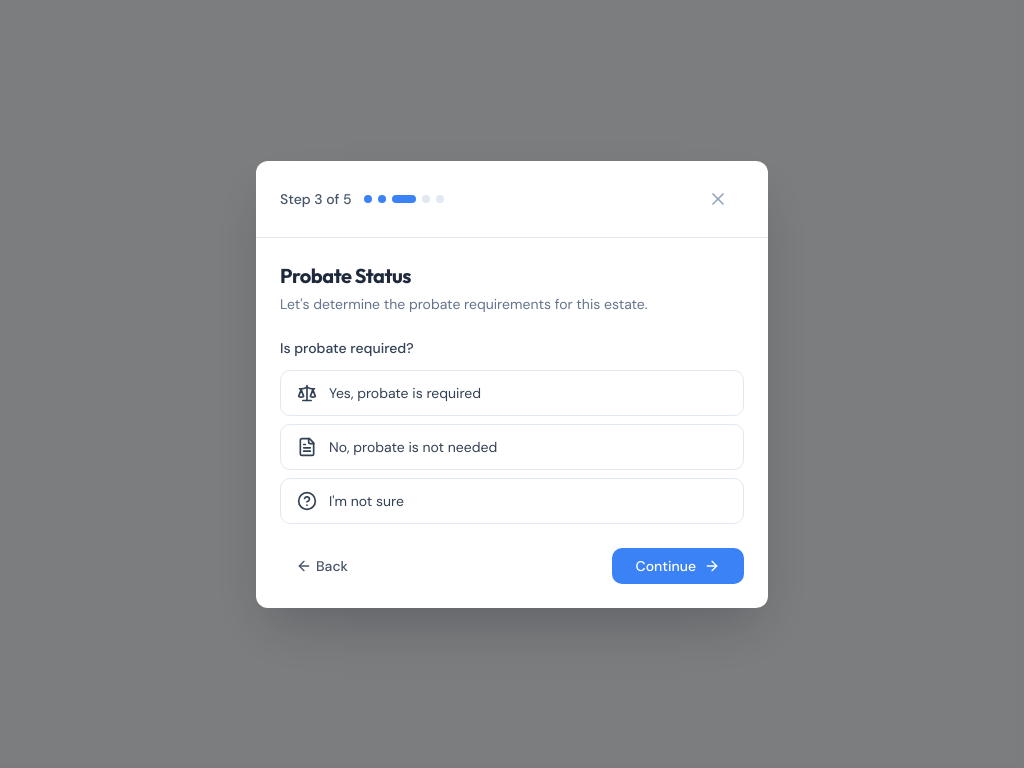
Test: OnboardingWizard › 13.6 Step 3: Probate Status Selection › shows help message when "unsure" is selected
Click the button with test id "wizard-probate-unsure". click: (366, 500)
box: [280,478,744,524]
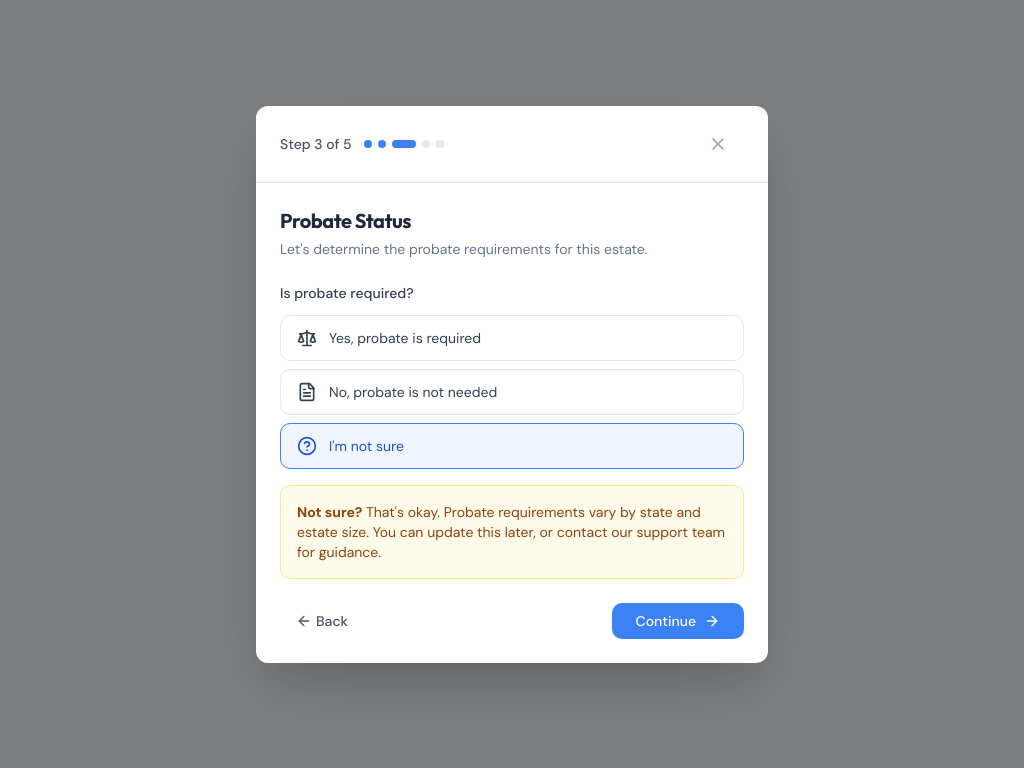
Expected: the element with test id "wizard-probate-help" is shown, [280,484,744,578]
Expected: the text "Not sure?" is shown, [297,502,362,520]
